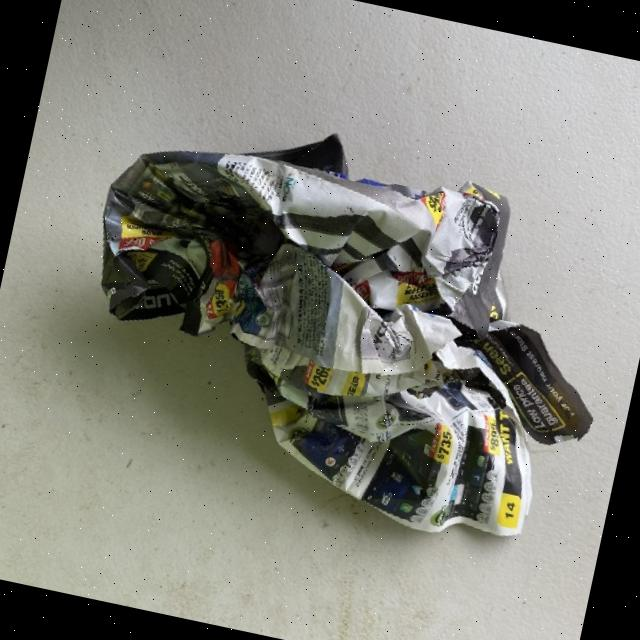paper: (51, 103, 635, 560)
